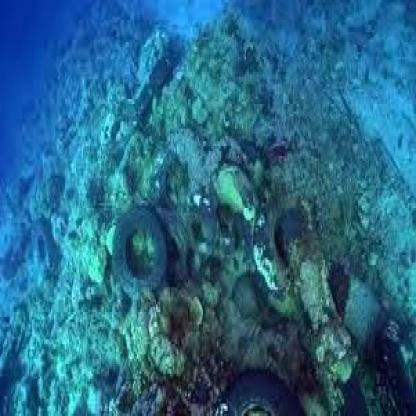tire: (221, 364, 315, 416), (116, 201, 169, 292), (146, 141, 212, 213)
